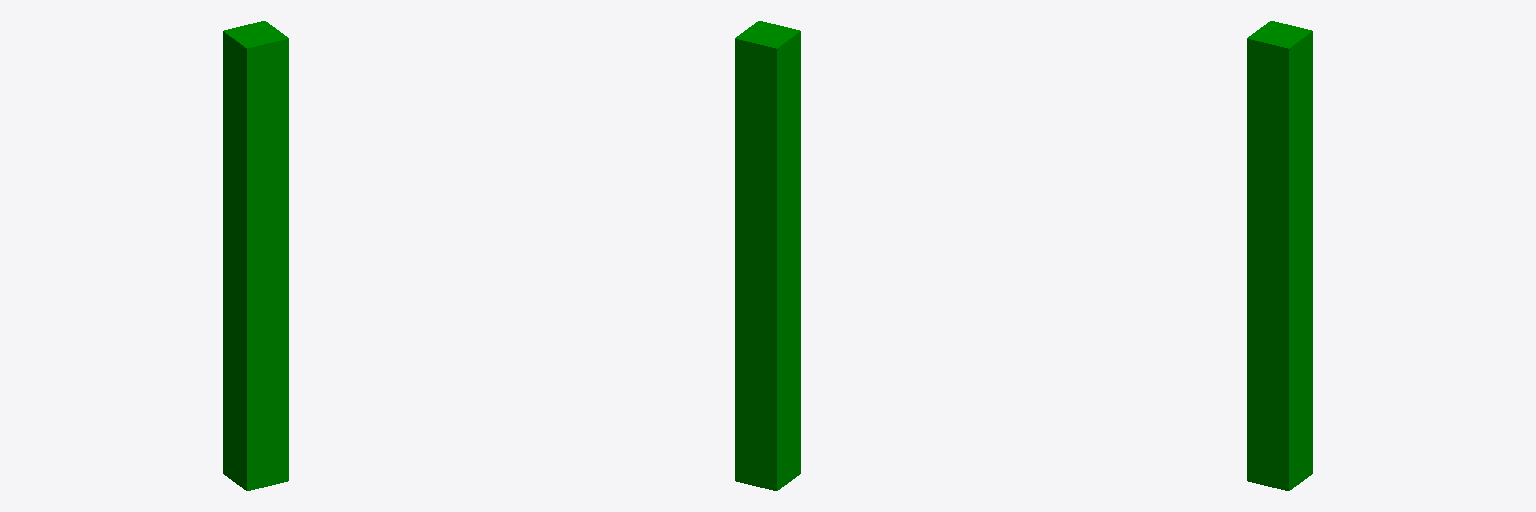
robot.urdf — tree_one:
<?xml version="1.0" ?>
<robot name="tree_one">
    <link name="block">
    <inertial>
      <origin xyz="0 0 0" rpy="0 0 0"/>
      <mass value="0.1"/>
      <inertia ixx="1" ixy="0" ixz="0" iyy="1" iyz="0" izz="1"/>
    </inertial>
    <!-- Visual representation of the cube (0.3m x 0.3m x 0.3m) -->
    <visual>
      <origin xyz="0 0 0" rpy="0 0 0"/>
      <geometry>
        <box size="0.5 0.5 5.0"/>
      </geometry>
      <material name="green">
        <color rgba="0 0.6 0 1"/>
      </material>
    </visual>
    <!-- Collision representation of the cube (0.3m x 0.3m x 0.3m) -->
    <collision>
      <origin xyz="0 0 0" rpy="0 0 0"/>
      <geometry>
        <box size="0.5 0.5 5.0"/>
      </geometry>
    </collision>    
    <!-- Contact properties (optional, e.g., friction) --> 
    <contact>
      <lateral_friction value="1.0"/>
      <rolling_friction value="0.0"/>
      <restitution value="0.0"/>
    </contact>
  </link>
</robot>  

--- What the picture shows (computed from the rendered views, not written in the file) ---
3 views of the same robot in one strip: view 1: azimuth 30°, elevation 25°; view 2: azimuth 150°, elevation 25°; view 3: azimuth 330°, elevation 25° (orthographic).
Robot: tree_one — 1 links, 0 joints (none); root link block; default pose: all joints at 0.
Links seen in each view (by area): view 1: block; view 2: block; view 3: block.
Boxes of the visible links, bbox=[...] form: block: bbox=[223, 21, 288, 490]; block: bbox=[735, 21, 800, 490]; block: bbox=[1247, 21, 1312, 490].
Size in the robot's own frame: 0.5 by 0.5 by 5 metres.
Geometry: primitives only (box / cylinder / sphere), no mesh files.
